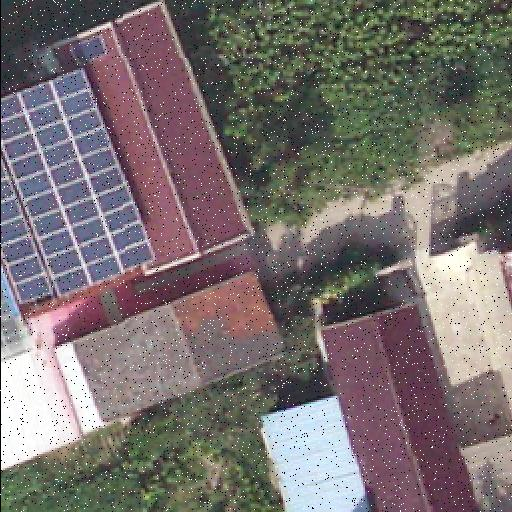solar-panel: (0, 53, 162, 307)
